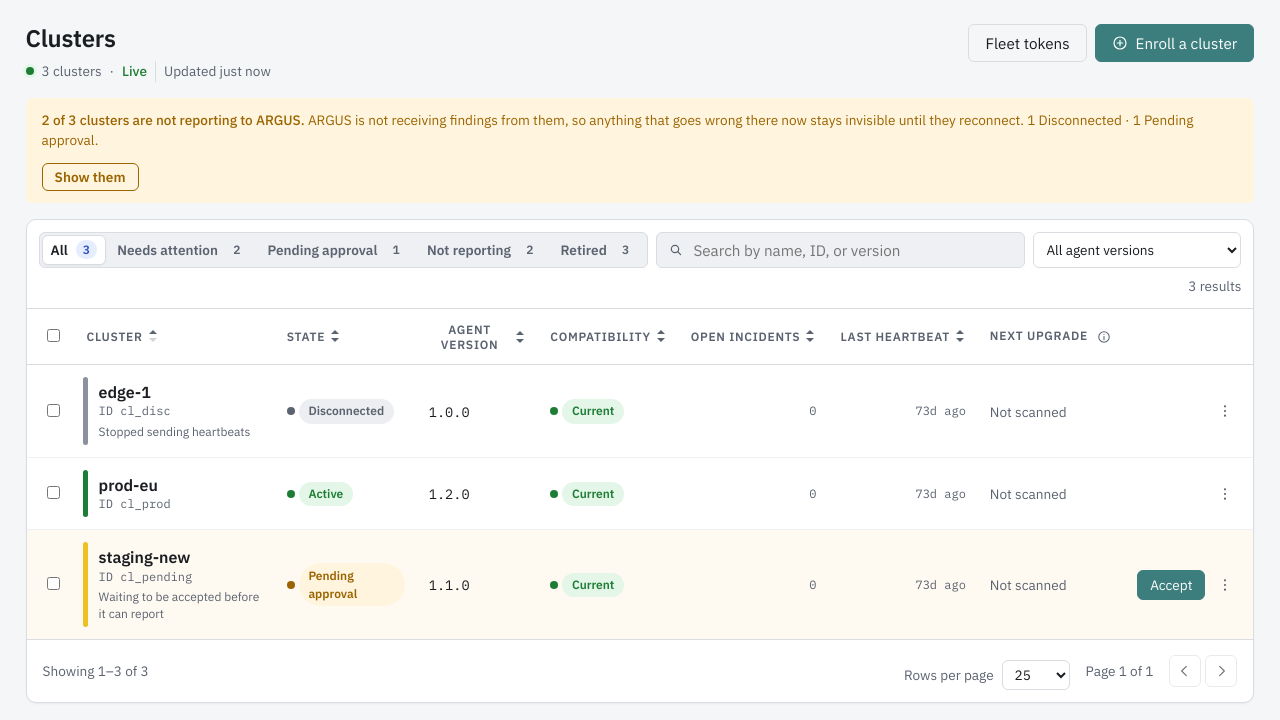
Test: ClustersPage — search, state, version filters and quick views › the "Pending approval" quick view matches the same predicate as the state filter
Expected: the link "prod-eu" is shown, [99, 474, 158, 496]
What coordinates should you click on to do the following:
click the button "Pending approval 1"
I would click on:
 (337, 250)
Its box is [258, 235, 416, 265].
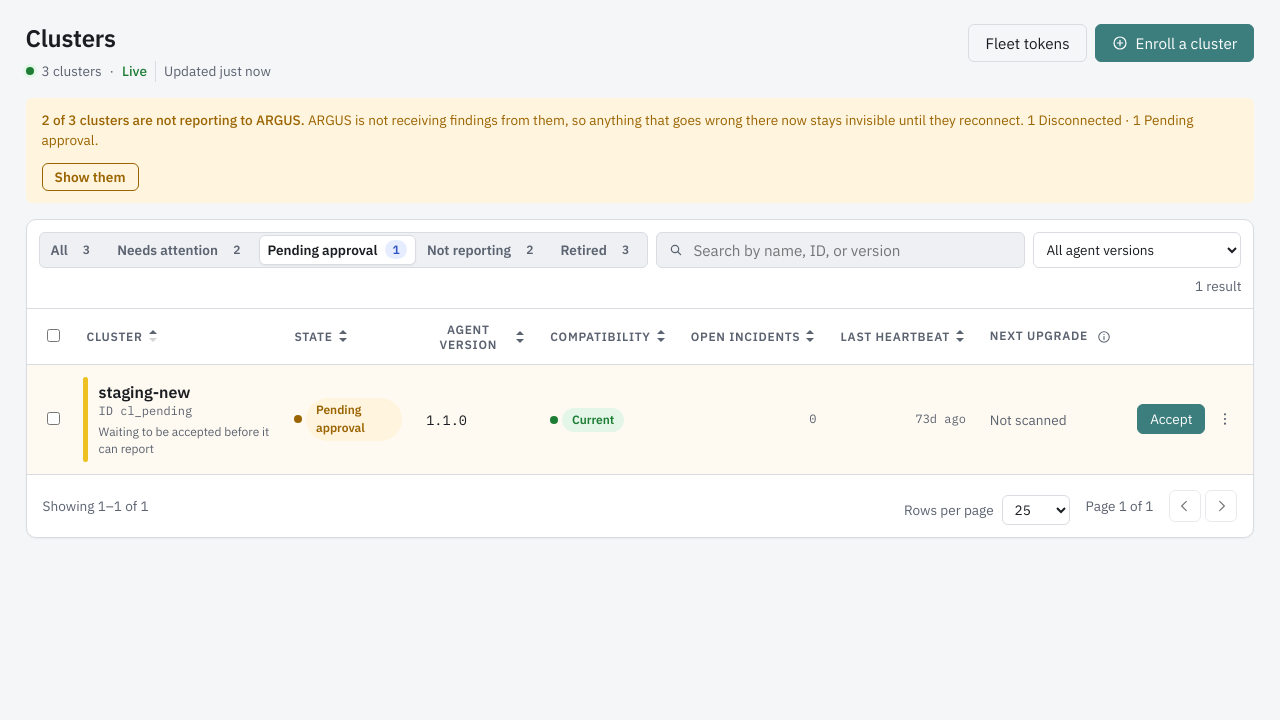
Expected: the link "staging-new" is shown, [99, 381, 190, 403]
Now the link "prod-eu" is gone
Now the link "edge-1" is gone
